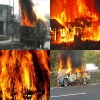fire: (50, 1, 98, 45), (0, 53, 41, 99), (57, 53, 90, 78), (18, 2, 48, 28), (54, 30, 56, 40), (58, 84, 61, 86), (81, 83, 83, 85), (69, 85, 70, 86)
